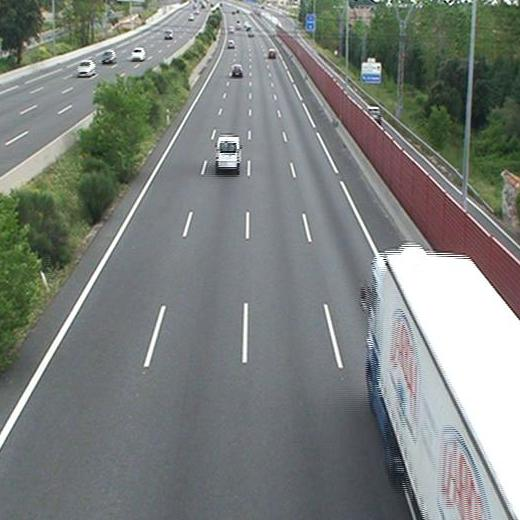car: (231, 64, 242, 75), (267, 49, 276, 58), (227, 40, 234, 50)
truck: (369, 248, 520, 518)
van: (216, 135, 240, 169)
